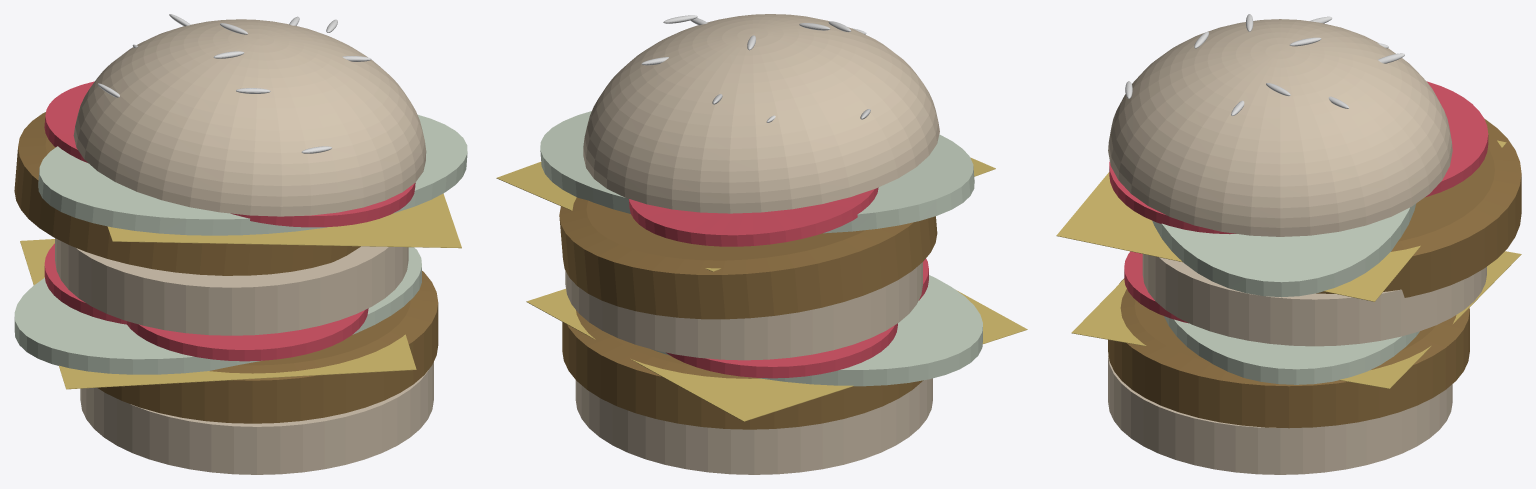
The model's file is Funky Snaget.glb.
The picture shows the model from 3 angles, left to right: view 1: azimuth 30°, elevation 25°; view 2: azimuth 150°, elevation 25°; view 3: azimuth 270°, elevation 25°; orthographic projection. The views are drawn at different scales.
Visible parts, largest first — view 1: Mesh_Mesh_head_geo.001_lambert2SG.001; view 2: Mesh_Mesh_head_geo.001_lambert2SG.001; view 3: Mesh_Mesh_head_geo.001_lambert2SG.001.
Boxes of the visible parts, box(x1,y1,x2,y2) form: Mesh_Mesh_head_geo.001_lambert2SG.001: box(14, 14, 467, 474); Mesh_Mesh_head_geo.001_lambert2SG.001: box(496, 14, 1027, 474); Mesh_Mesh_head_geo.001_lambert2SG.001: box(1056, 14, 1521, 474).
Size of the model in its own units: 0.0286 by 0.0231 by 0.027.
